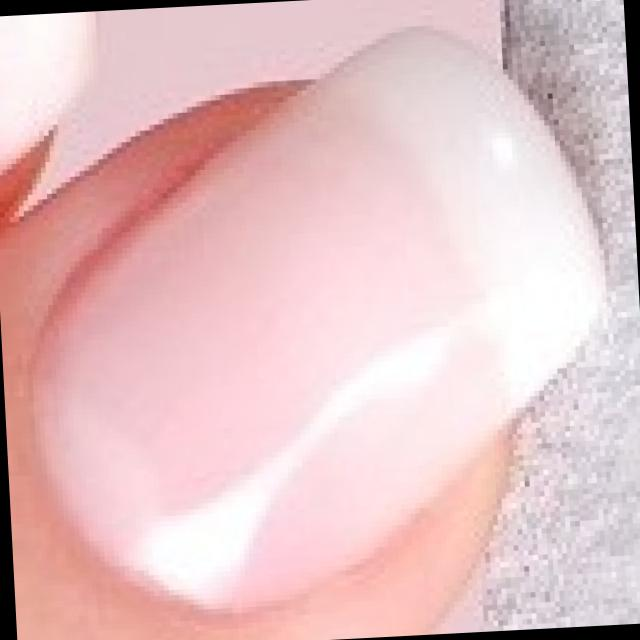Nail: (28, 26, 604, 621)
